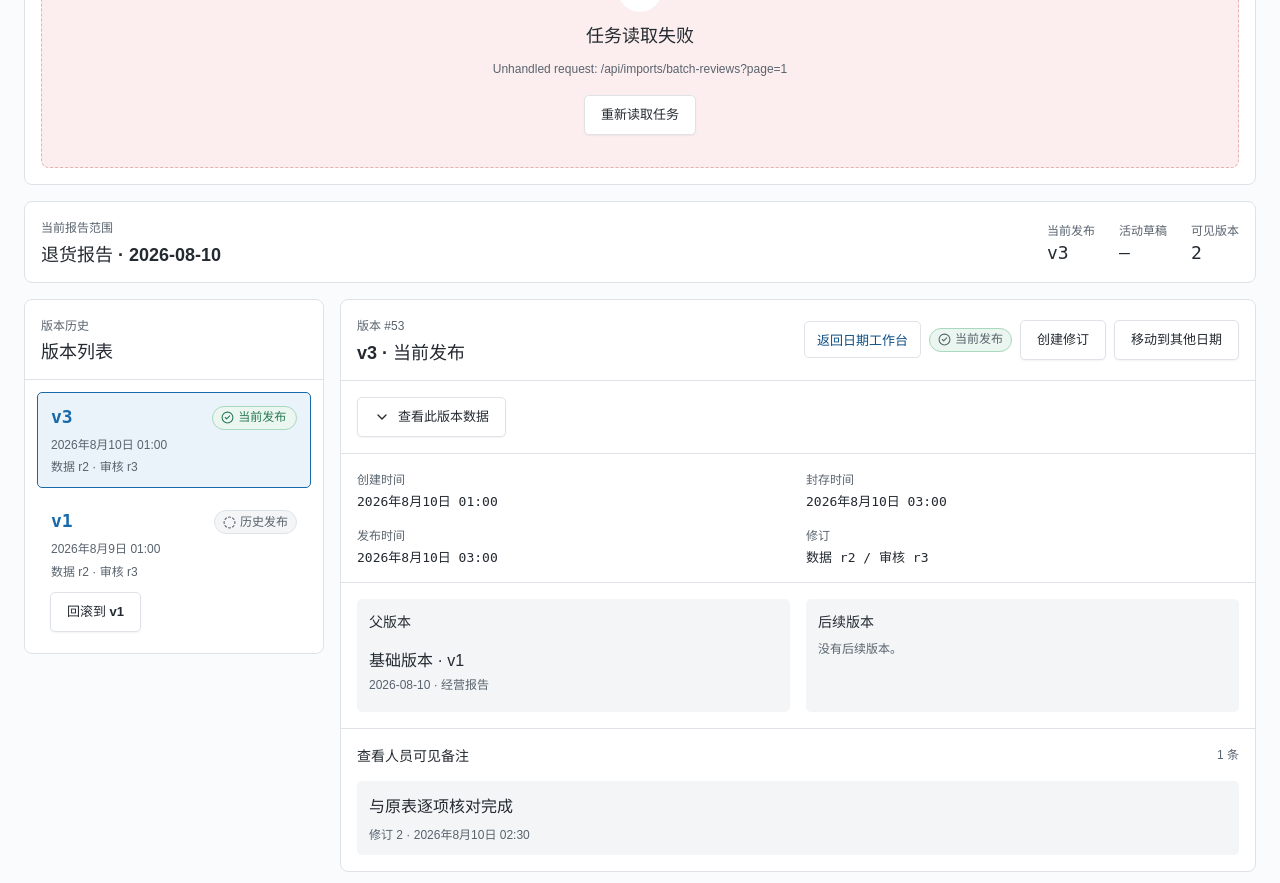
Test: VersionHistory › rebuilds superseded return rollback staging and waits for ready before reusing its token
(page scrolled)
Click the button "回滚到 v1": (96, 612) [50,592,141,632]
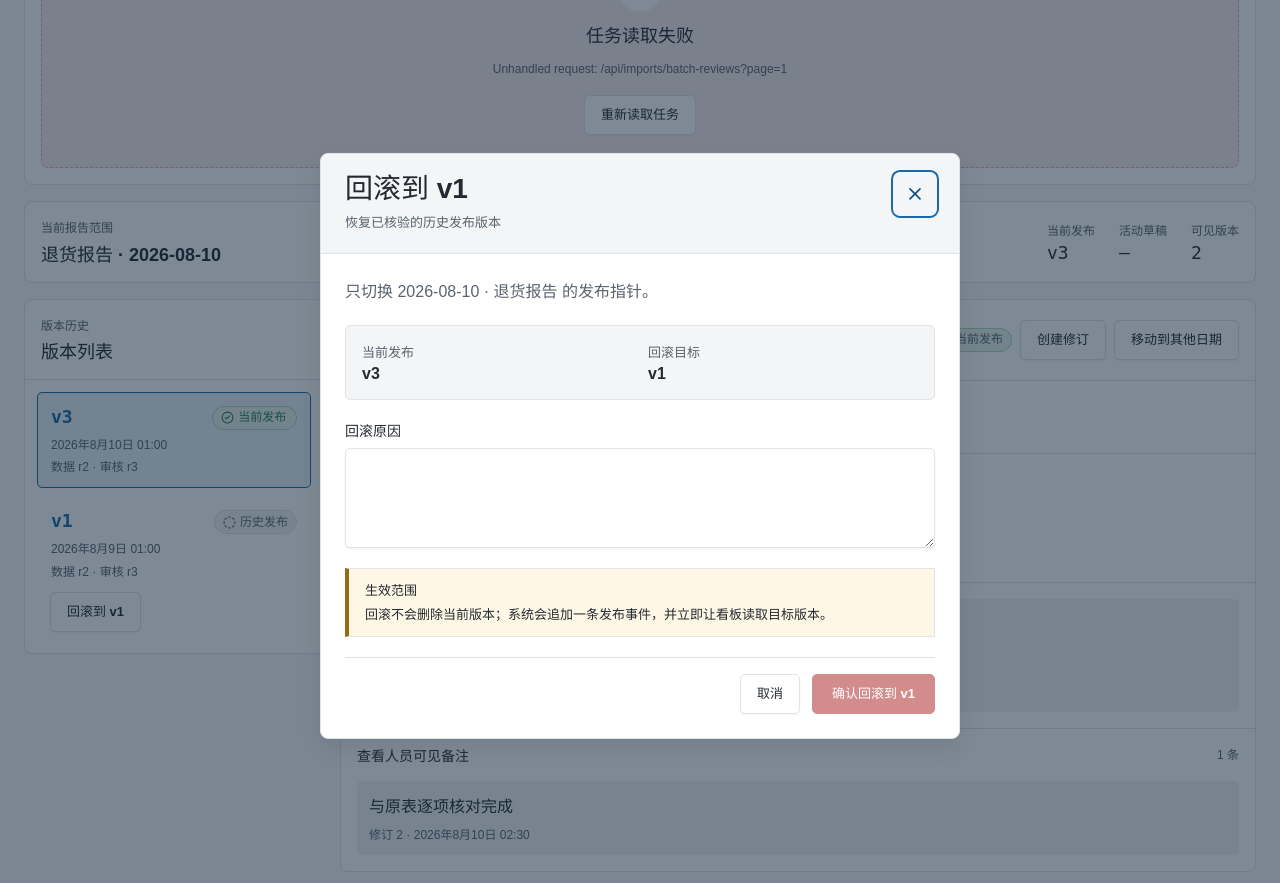
In the text box labelled "回滚原因": (640, 498) [345,448,935,548], type "退货去重结果复核后恢复历史版本"
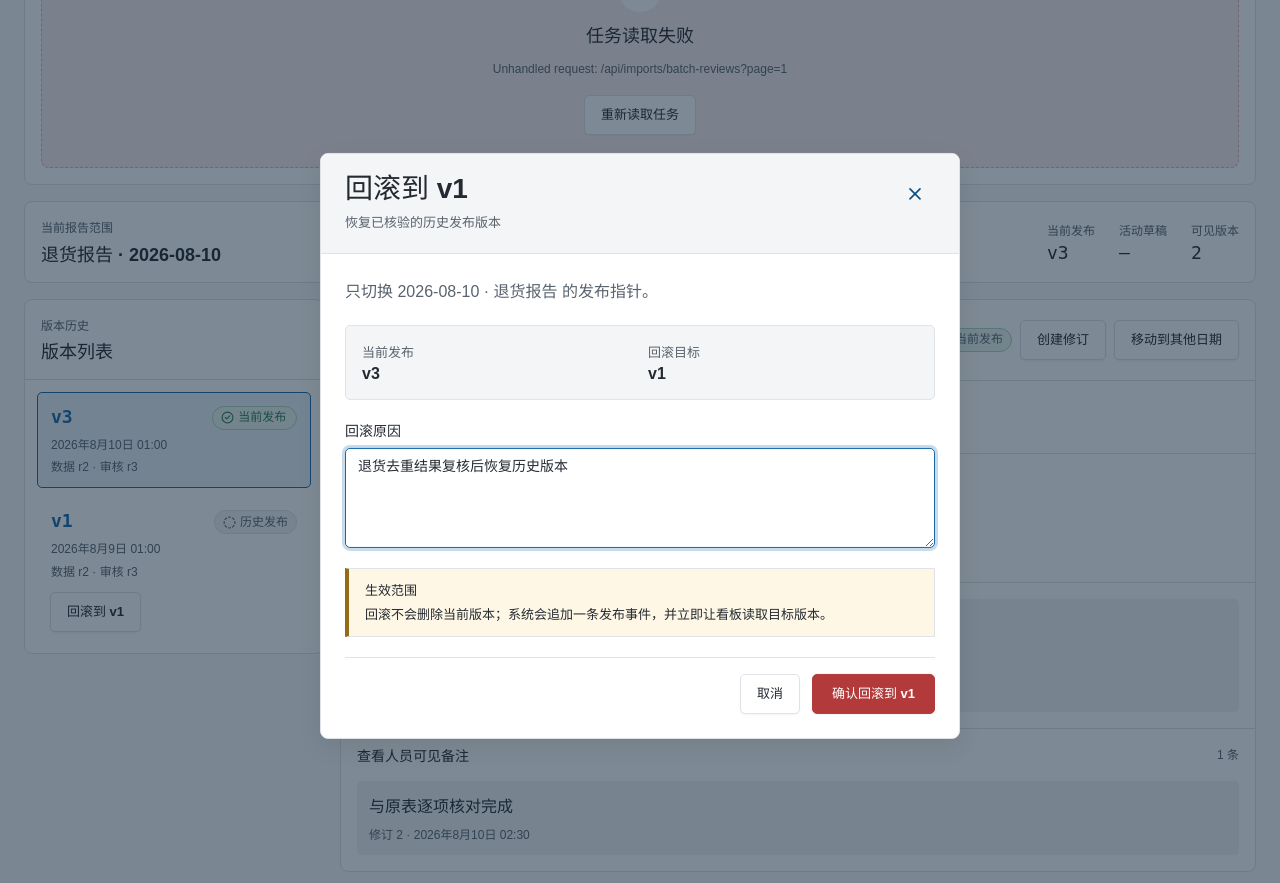
Click the button "确认回滚到 v1": (874, 694) [812,674,935,714]
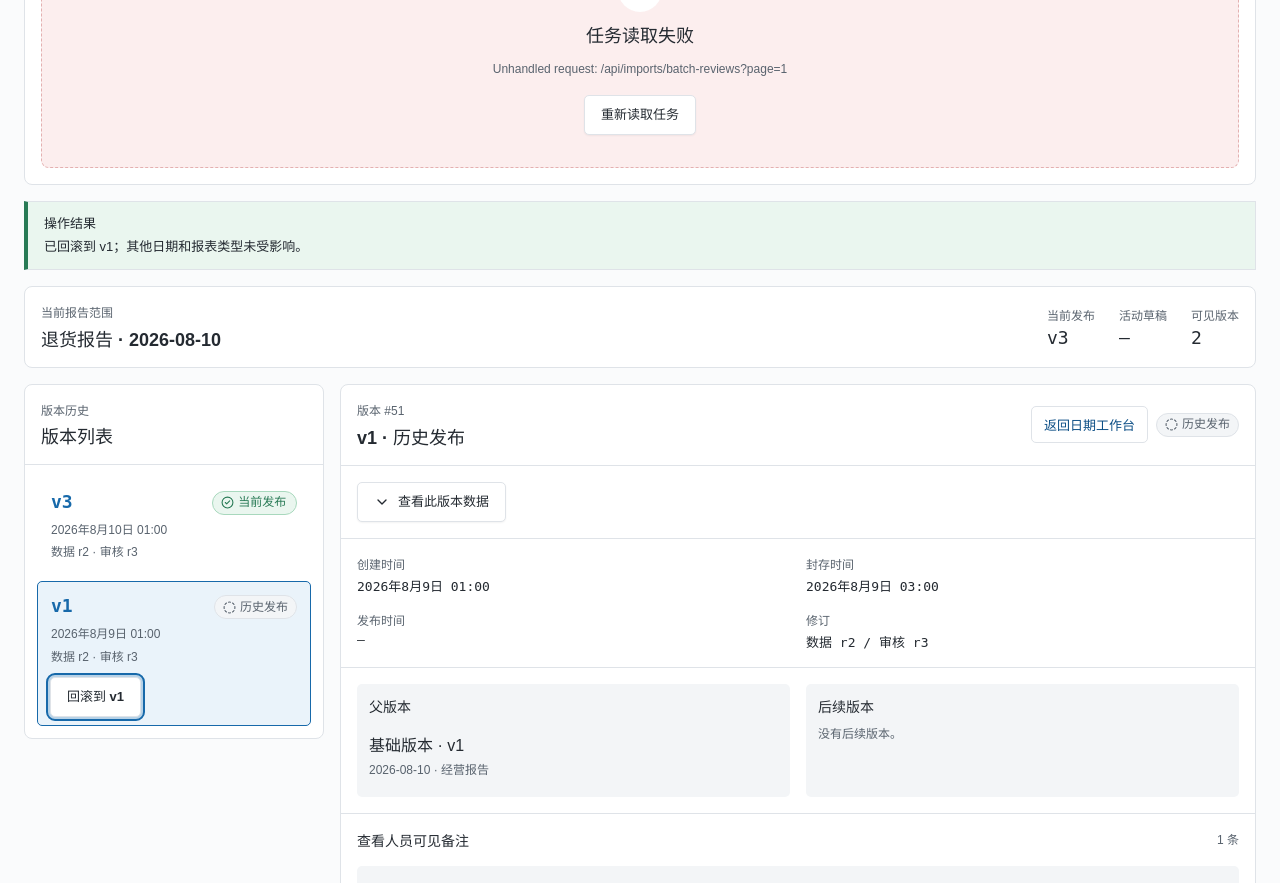
Expected: the text "已回滚到 v1；其他日期和报表类型未受影响。" is shown, [44,237,308,257]
